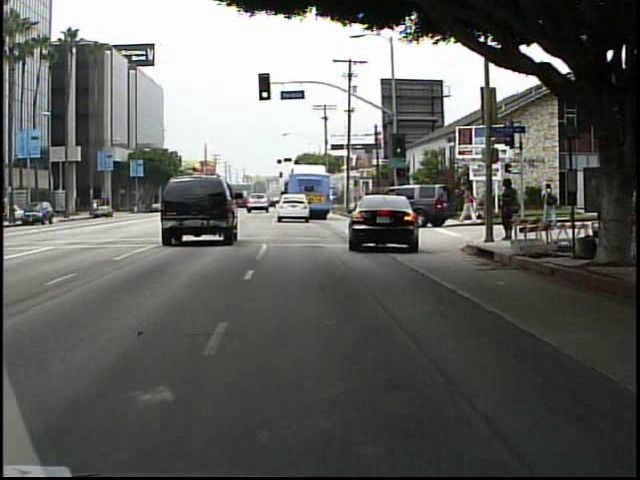person: (497, 173, 520, 248), (460, 180, 481, 227), (541, 180, 561, 221), (481, 179, 496, 224)
